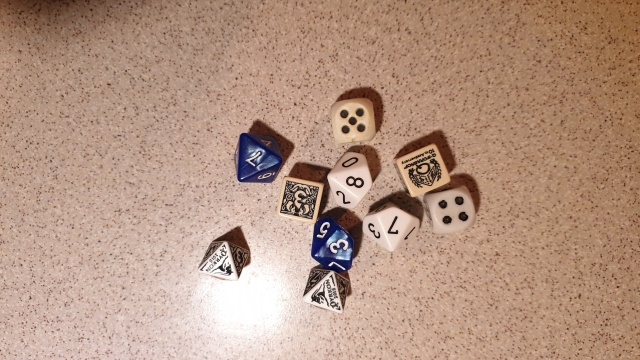d10-3: (309, 217, 360, 275)
d10-7: (227, 125, 283, 193), (361, 198, 421, 253)
d10-8: (321, 152, 377, 208)
d6-4: (425, 184, 480, 236)
d6-5: (324, 94, 383, 146)
d6p-3: (275, 174, 323, 223)
d6p-6: (394, 142, 451, 196)
d8p-1: (192, 233, 253, 286), (298, 265, 356, 315)
